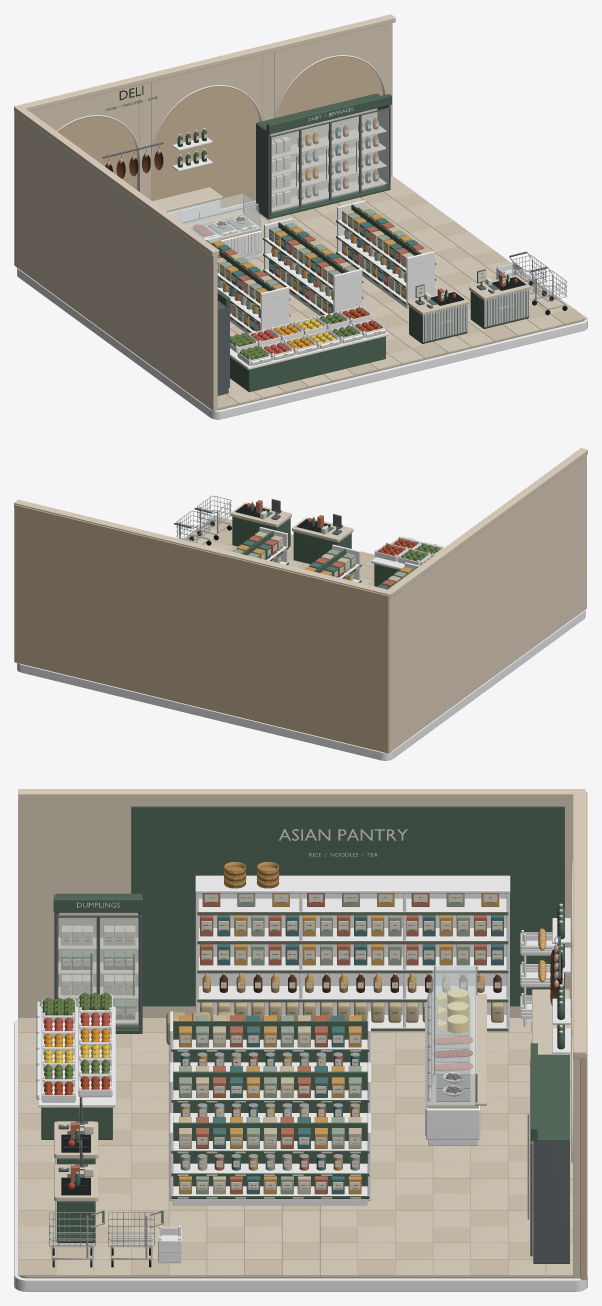
Rendered from european-arcade-supermarket.glb.
3 renders of one model, top to bottom at view 1: azimuth 30°, elevation 25°; view 2: azimuth 150°, elevation 25°; view 3: azimuth 270°, elevation 25°, orthographic. The views are drawn at different scales.
Parts seen in each view (by area): view 1: Left continuous cutaway wall export, Rear continuous niche wall export, Rounded supermarket foundation export, Produce island base export, Rear continuous cornice export, Solid arched plaster spandrel.002 export, Solid arched plaster spandrel.001 export, Solid arched plaster spandrel export, Left top cream coping export, Cold case interior export, Transparent refrigerator door.002 export, Transparent refrigerator door.003 export (+27 smaller); view 2: Rear continuous niche wall export, Left continuous cutaway wall export, Rounded supermarket foundation export, Rear continuous cornice export, Left top cream coping export, Checkout lower body export, Checkout lower body.001 export, Checkout stone counter export, Checkout stone counter.001 export; view 3: Left sage department panel export, Left continuous cutaway wall export, Rounded supermarket foundation export, Left top cream coping export, Asian shelving solid back export, Asian bookcase top canopy export, Cold case side casing.001 export, Deli glass top export, Continuous floor grout bed export, Aisle center divider.002 export, Transparent refrigerator door.005 export, Rear continuous cornice export (+83 smaller).
Part boxes in pixels (x1,y1,x2,y2): Left continuous cutaway wall export: (15, 113, 217, 411); Rear continuous niche wall export: (14, 56, 382, 265); Rounded supermarket foundation export: (17, 178, 587, 419); Produce island base export: (230, 336, 385, 392); Rear continuous cornice export: (14, 14, 395, 111); Solid arched plaster spandrel.002 export: (274, 24, 385, 118); Solid arched plaster spandrel.001 export: (151, 54, 262, 151); Solid arched plaster spandrel export: (30, 84, 139, 161); Left top cream coping export: (14, 106, 219, 256); Cold case interior export: (270, 108, 377, 196); Transparent refrigerator door.002 export: (332, 116, 358, 197); Transparent refrigerator door.003 export: (362, 109, 388, 190); Rear continuous niche wall export: (14, 504, 389, 753); Left continuous cutaway wall export: (390, 455, 586, 752); Rounded supermarket foundation export: (17, 521, 585, 760); Rear continuous cornice export: (14, 499, 393, 598); Left top cream coping export: (385, 448, 587, 598); Checkout lower body export: (293, 531, 351, 564); Checkout lower body.001 export: (232, 516, 290, 547); Checkout stone counter export: (292, 517, 353, 542); Checkout stone counter.001 export: (231, 502, 291, 527); Left sage department panel export: (131, 806, 564, 1006); Left continuous cutaway wall export: (18, 800, 572, 1019); Rounded supermarket foundation export: (14, 1019, 587, 1291); Left top cream coping export: (18, 789, 583, 800); Asian shelving solid back export: (199, 893, 506, 1014); Asian bookcase top canopy export: (195, 875, 510, 893); Cold case side casing.001 export: (533, 1138, 569, 1263); Deli glass top export: (432, 966, 476, 1073); Continuous floor grout bed export: (18, 1021, 574, 1278); Aisle center divider.002 export: (173, 1122, 367, 1186); Transparent refrigerator door.005 export: (100, 918, 138, 1024); Rear continuous cornice export: (573, 789, 585, 1058).
Size of the model in its own units: 13.21 by 5.62 by 12.18.
